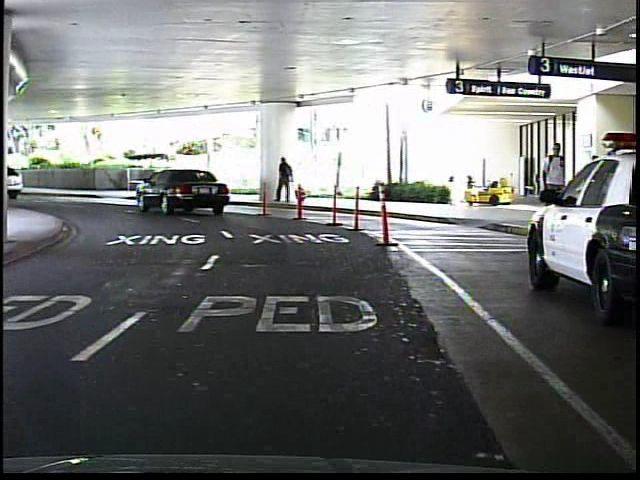person: (537, 139, 568, 235), (271, 156, 299, 209)
